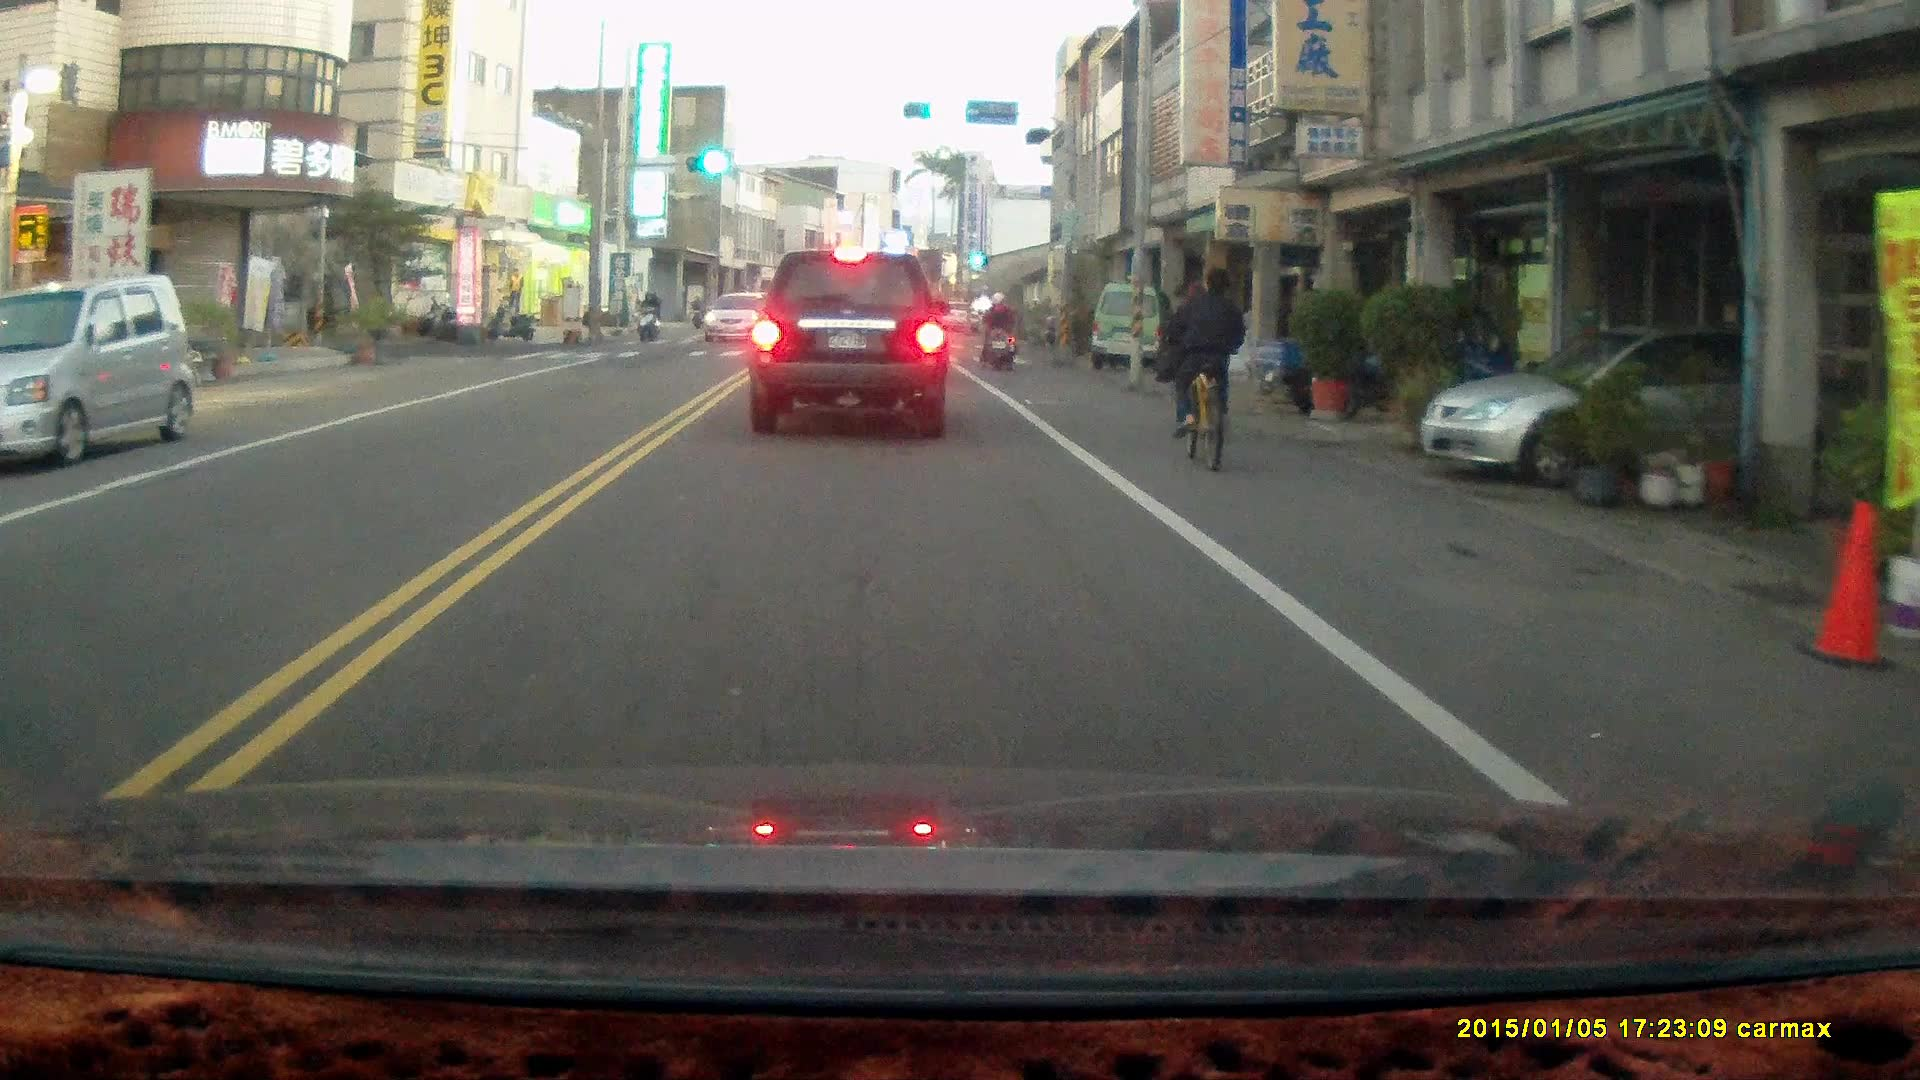pedestrian: (504, 265, 524, 315)
rider: (1176, 263, 1248, 468), (975, 289, 1018, 369), (633, 287, 661, 341)
vehicle: (1418, 324, 1846, 488), (745, 248, 954, 443), (2, 271, 198, 474), (1095, 282, 1181, 365)
